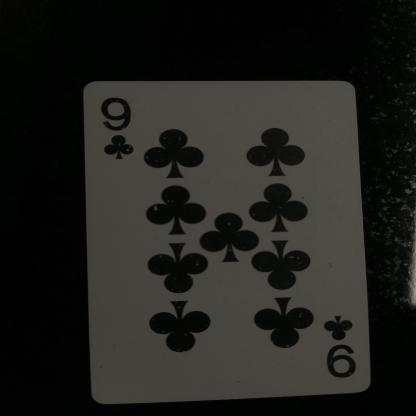9C: (96, 96, 152, 176), (305, 318, 367, 386)
